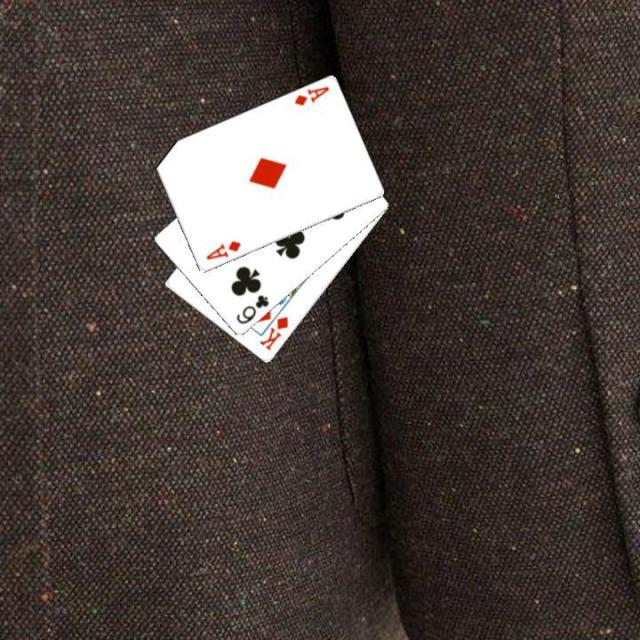6C: (232, 291, 271, 326)
AD: (290, 82, 330, 108), (202, 238, 242, 262)
KD: (255, 313, 290, 352)
